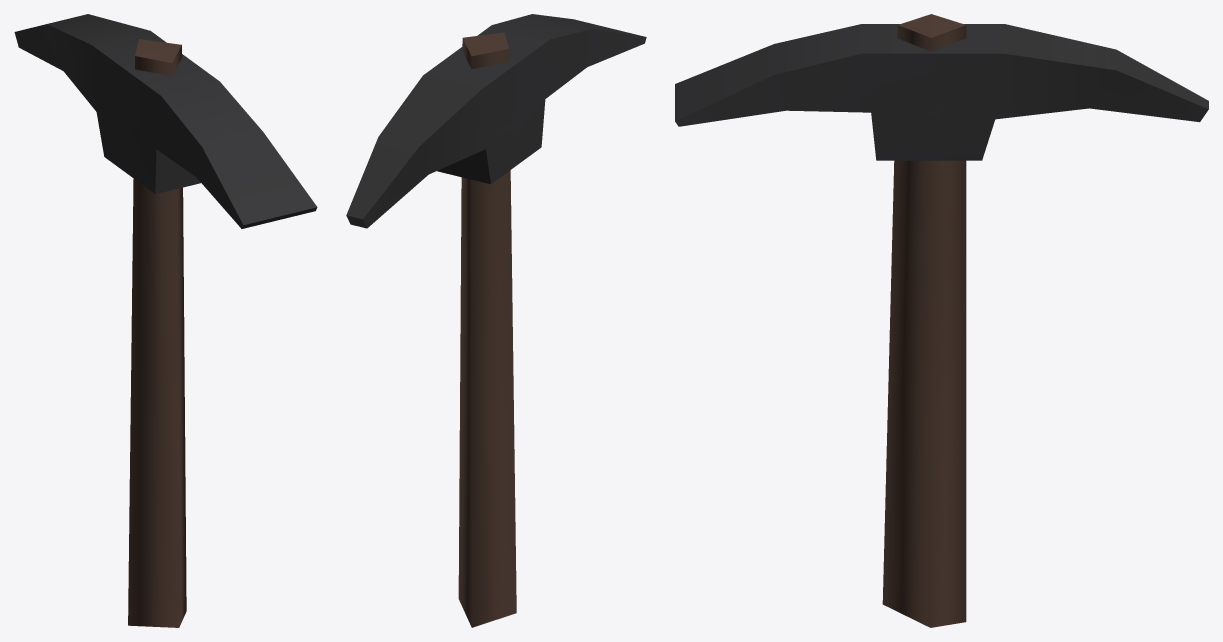
Rendered from w_pick.FBX.
The picture shows the model from 3 angles, left to right: view 1: azimuth 30°, elevation 25°; view 2: azimuth 150°, elevation 25°; view 3: azimuth 270°, elevation 25°; orthographic projection. The views are drawn at different scales.
Parts seen in each view (by area): view 1: w_pick; view 2: w_pick; view 3: w_pick.
Boxes of the visible parts, x1,y1,x2,y2 form: w_pick: [14, 14, 317, 627]; w_pick: [346, 14, 646, 627]; w_pick: [675, 14, 1208, 627].
Bounding box in the file's own units: 4.75 × 35.41 × 28.66.
1 material, 1 textured.
